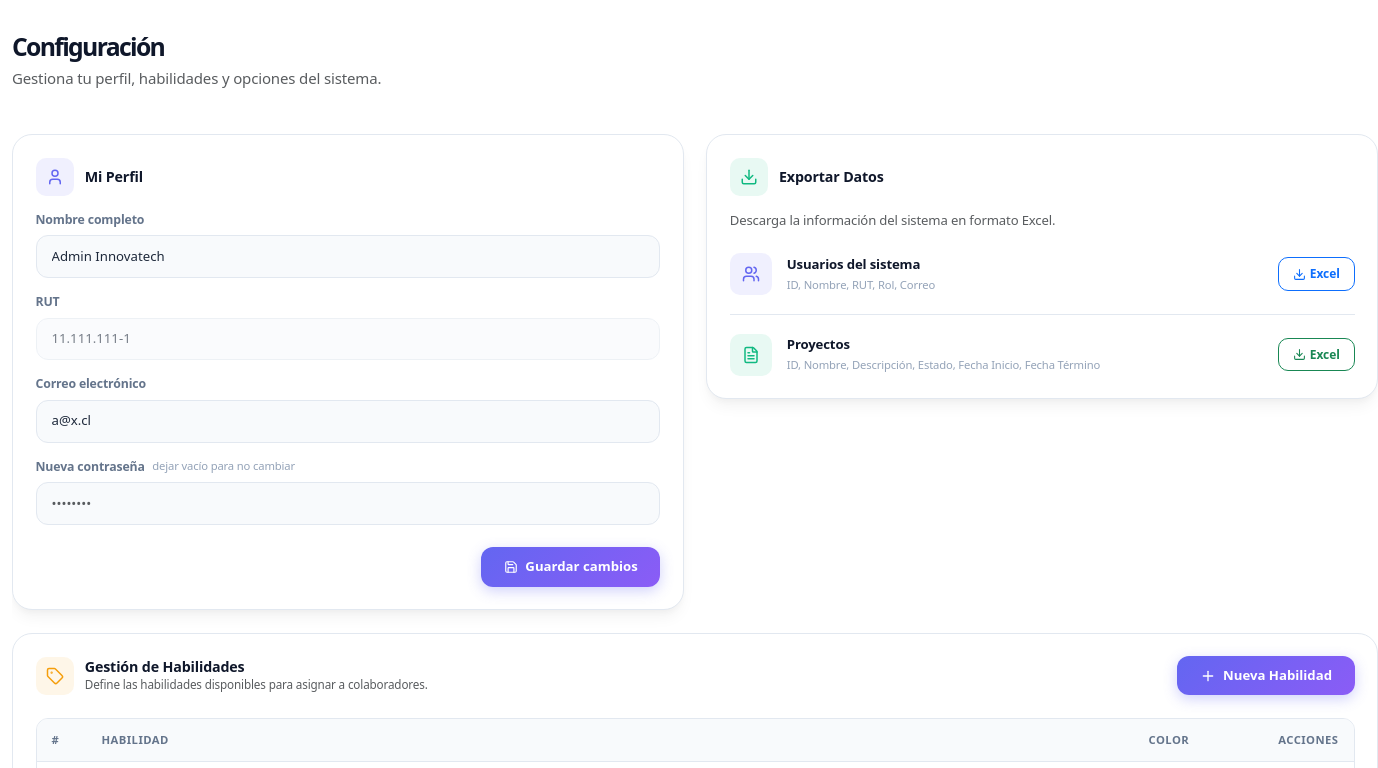
it: Config › guarda los cambios del perfil con PUT
Expected: the field named "nombre" below "Nombre completo" holds "Admin Innovatech", [36,235,660,278]
Click the button "Guardar cambios" at coordinates (571, 567), box [481,547,660,587]
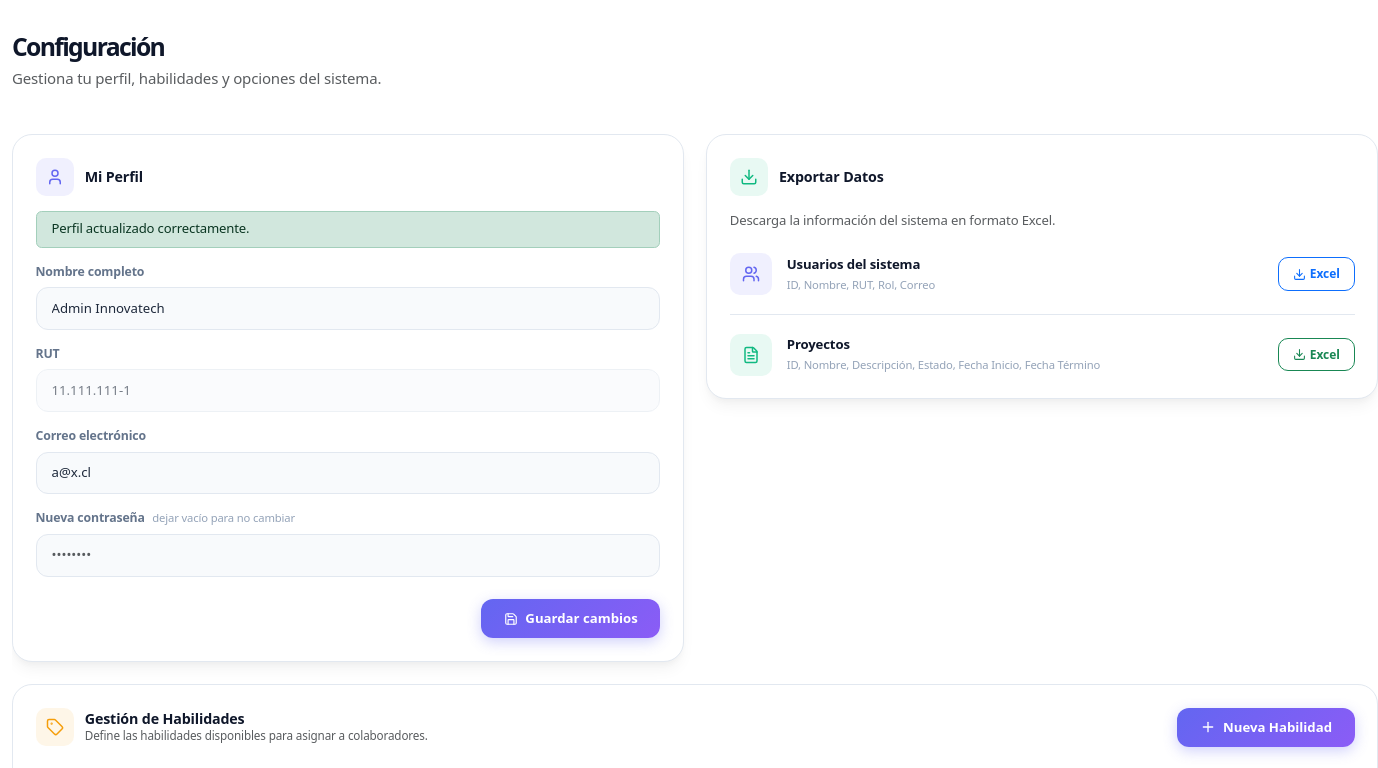
Result: the text "Perfil actualizado correctamente." is shown at [36,211,660,248]
